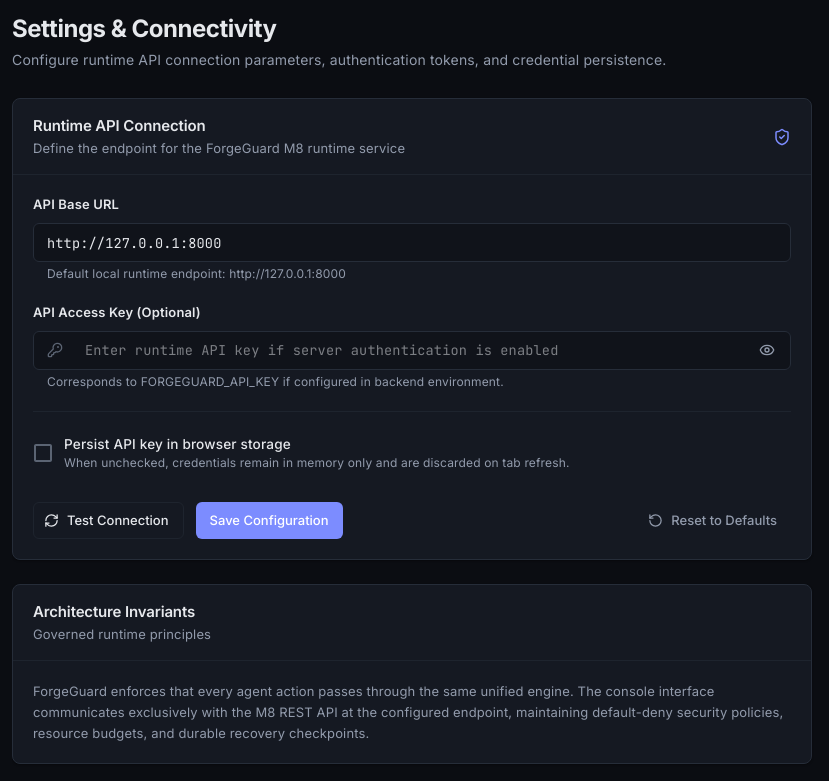
Scenario: SettingsPage › validates API base URL and rejects invalid formats
Type "invalid-url-without-protocol" into the field named "api base url" at (412,242), box [33, 223, 791, 262]
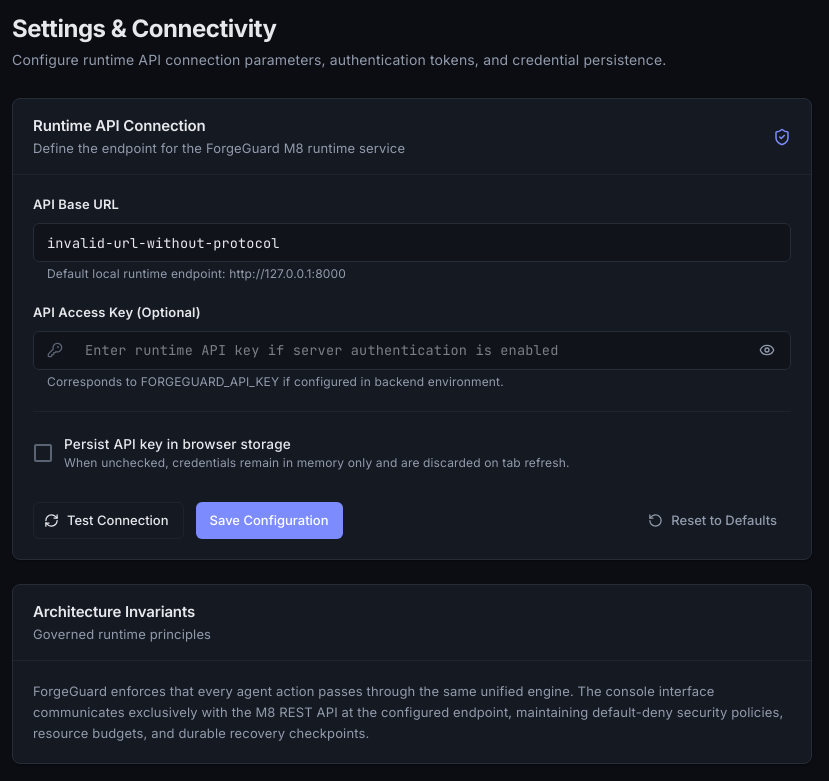
Leave the field named "api base url", box [33, 223, 791, 262]
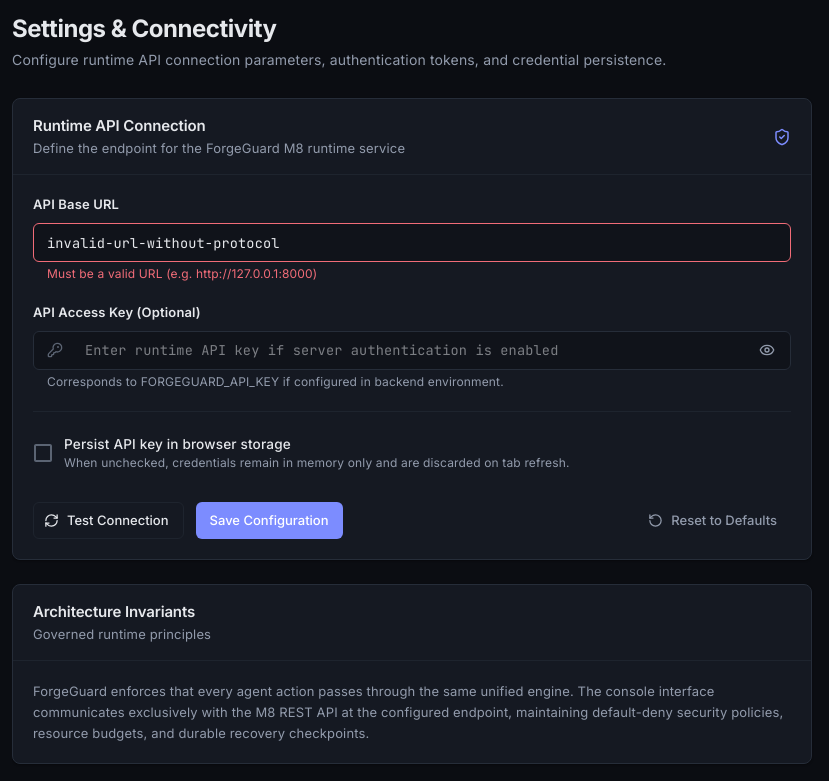
Expected: the text "Must be a valid URL (e.g. http://127.0.0.1:8000)" is shown, [47, 266, 317, 281]
